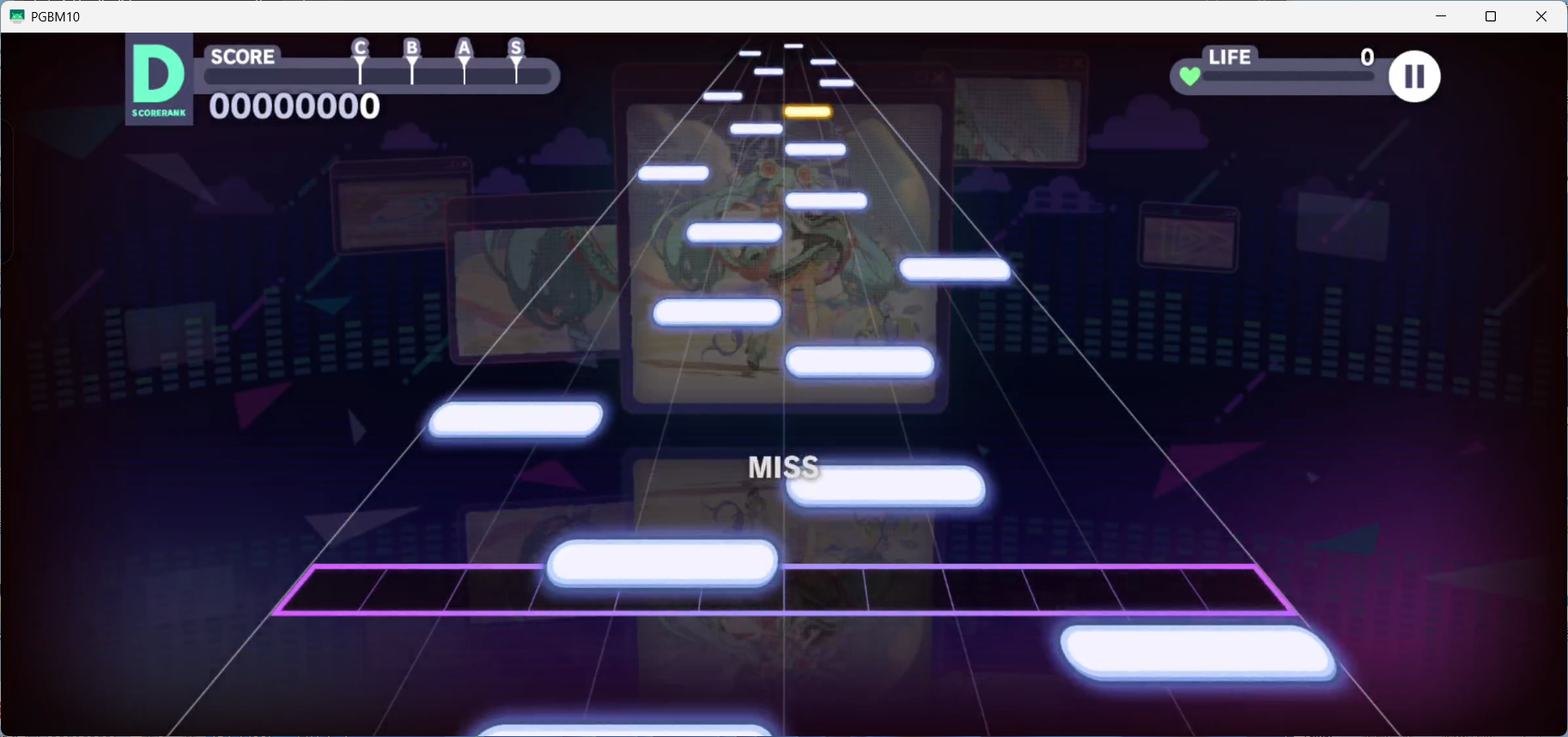tap: (1060, 623, 1334, 681), (548, 539, 778, 590), (783, 467, 987, 510), (427, 400, 603, 439), (784, 346, 934, 381), (654, 297, 780, 326), (899, 257, 1011, 281), (687, 222, 782, 243), (786, 192, 867, 210), (638, 166, 708, 182), (785, 142, 846, 157), (729, 124, 783, 136), (784, 106, 831, 118), (702, 91, 743, 102), (819, 79, 854, 87), (754, 68, 783, 75), (810, 58, 837, 65), (738, 50, 762, 57), (783, 44, 804, 48)
